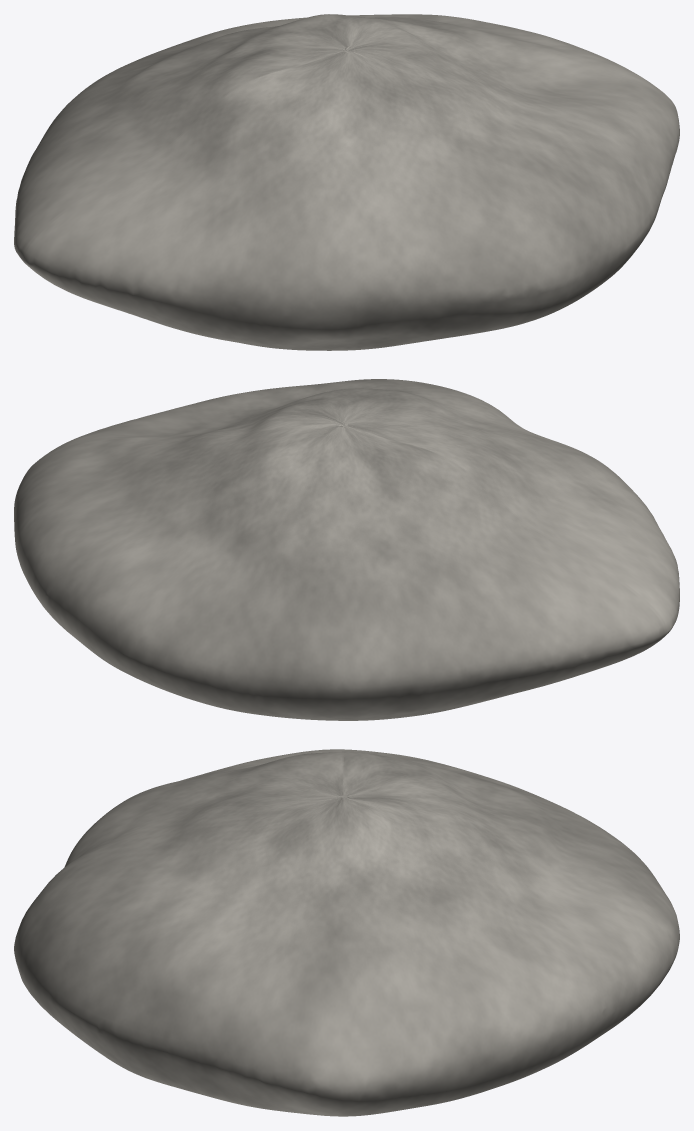
The picture shows the model from 3 angles, top to bottom: view 1: azimuth 30°, elevation 25°; view 2: azimuth 150°, elevation 25°; view 3: azimuth 270°, elevation 25°; orthographic projection. The views are drawn at different scales.
Parts seen in each view (by area): view 1: Atlas; view 2: Atlas; view 3: Atlas.
Boxes of the visible parts, x1,y1,x2,y2 form: Atlas: (14,14,679,350); Atlas: (14,379,679,720); Atlas: (14,749,679,1116).
Size of the model in its own units: 47.54 by 19.47 by 41.29.
1 material, 1 textured.
